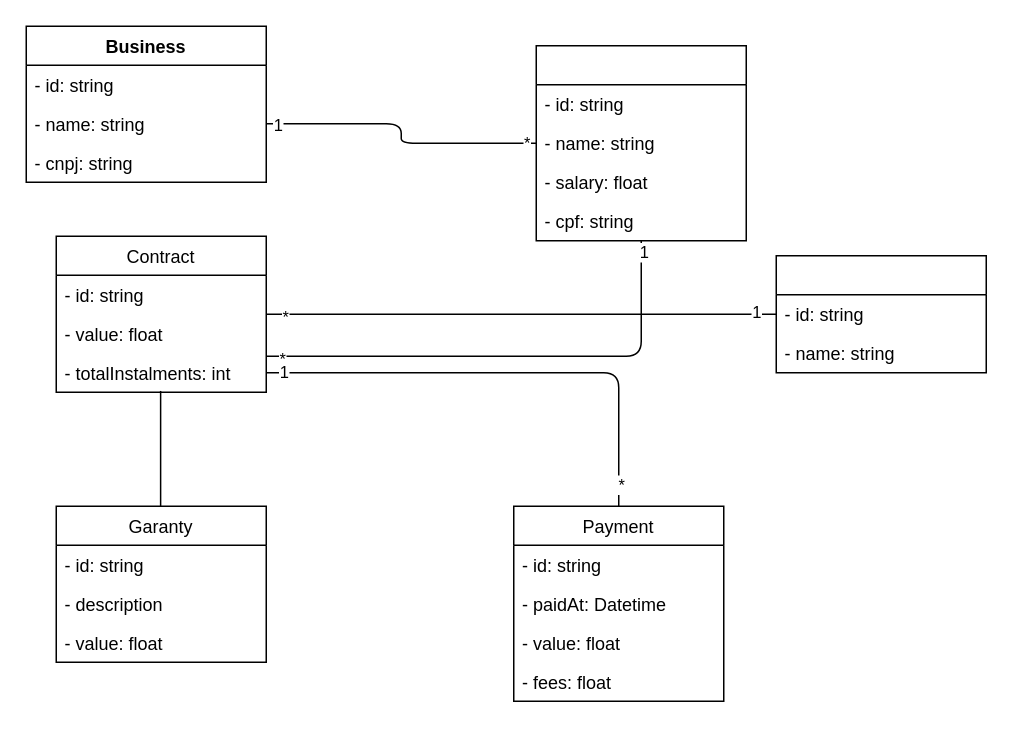
This 1013x732 diagram has some shape labels left out. Here are the shapes that lost their labels. From the top down, the box of each, then its label:
(535, 44, 746, 241): Employee
(775, 254, 986, 373): Seller
